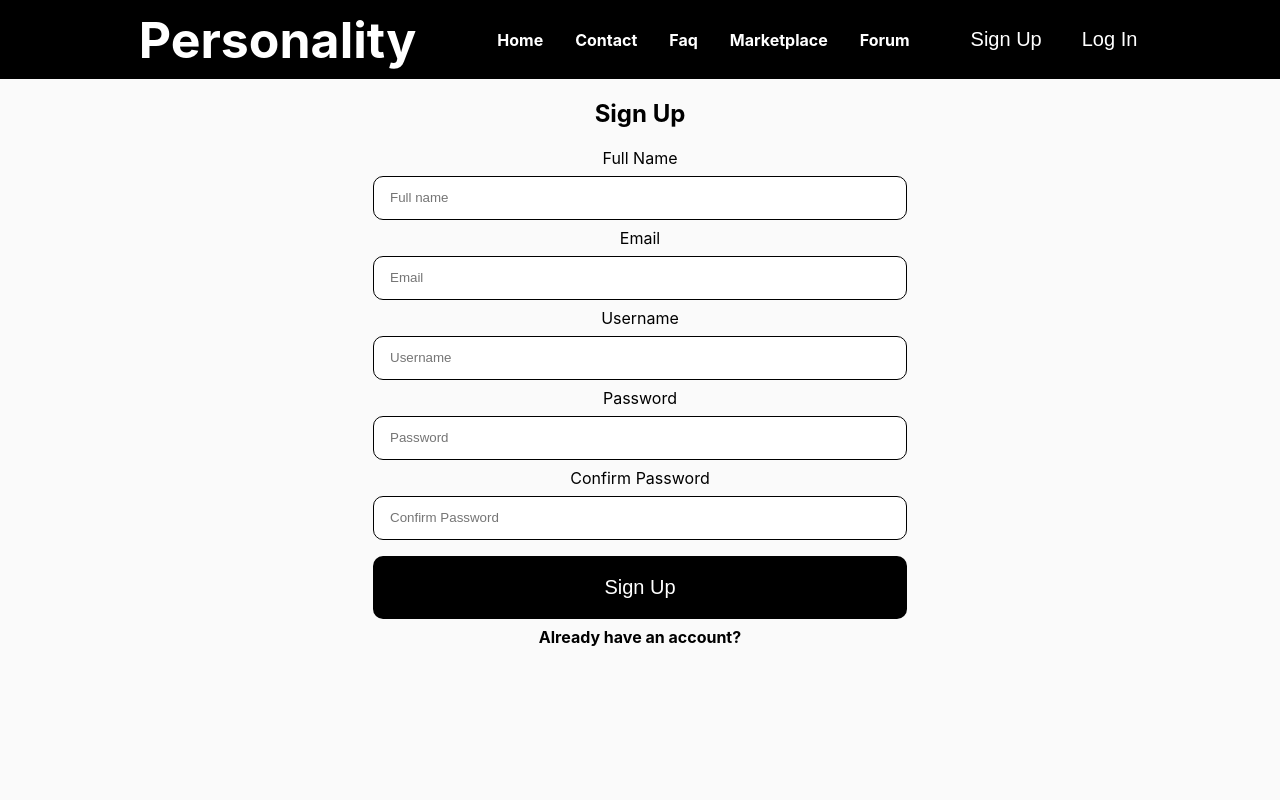
Test case: Cannot submit invalid email
Type "John Jefferson II" into the field with test id "signup-fullname" at (640, 198), box [373,176,907,220]
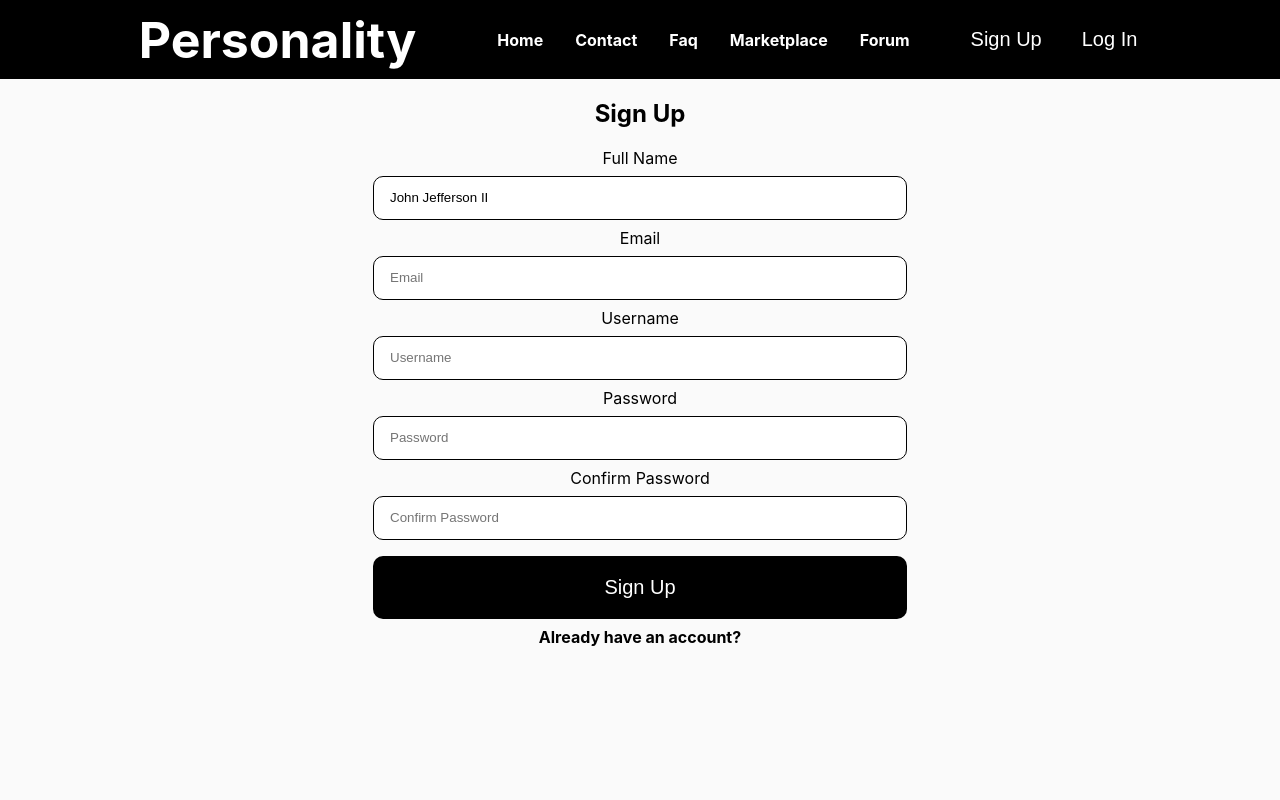
Type "j.jettas2@google.com" into the field with test id "signup-email" at (640, 278), box [373,256,907,300]
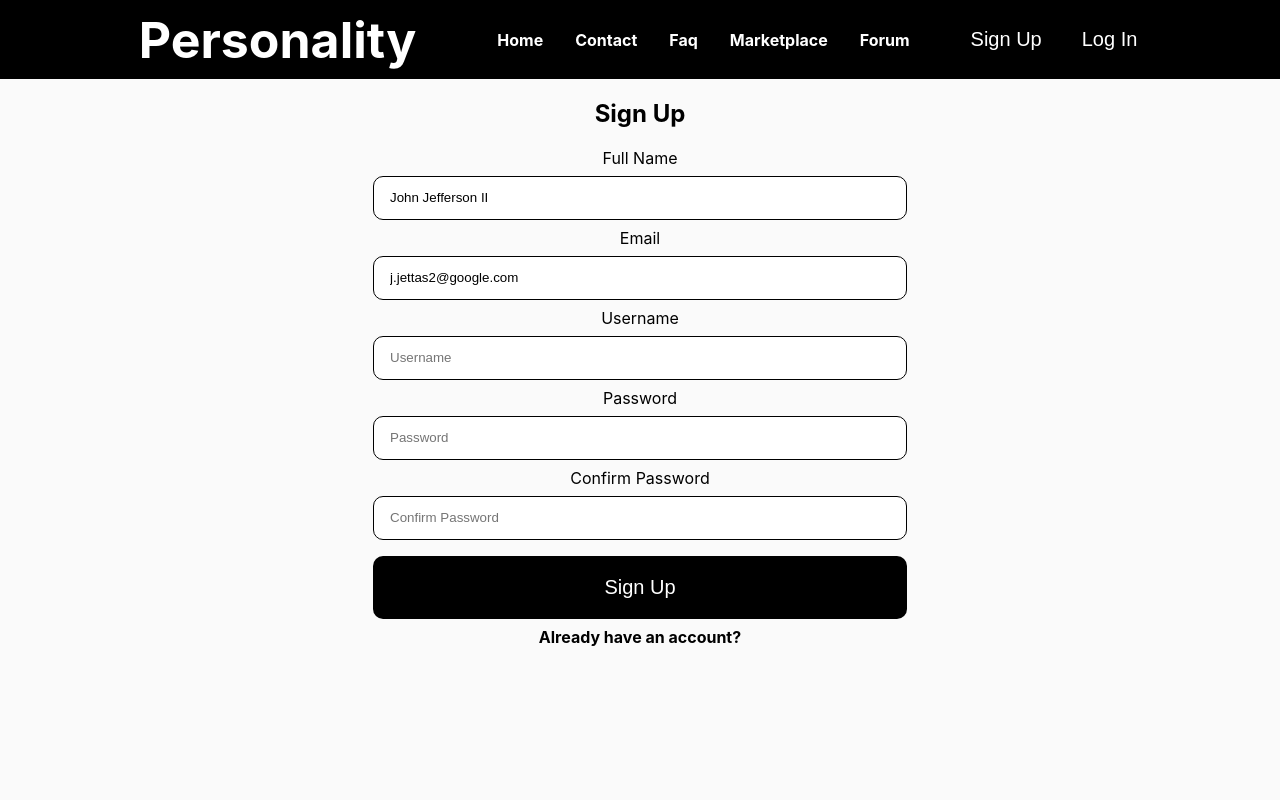
Type "Griddy" into the field with test id "signup-username" at (640, 358), box [373,336,907,380]
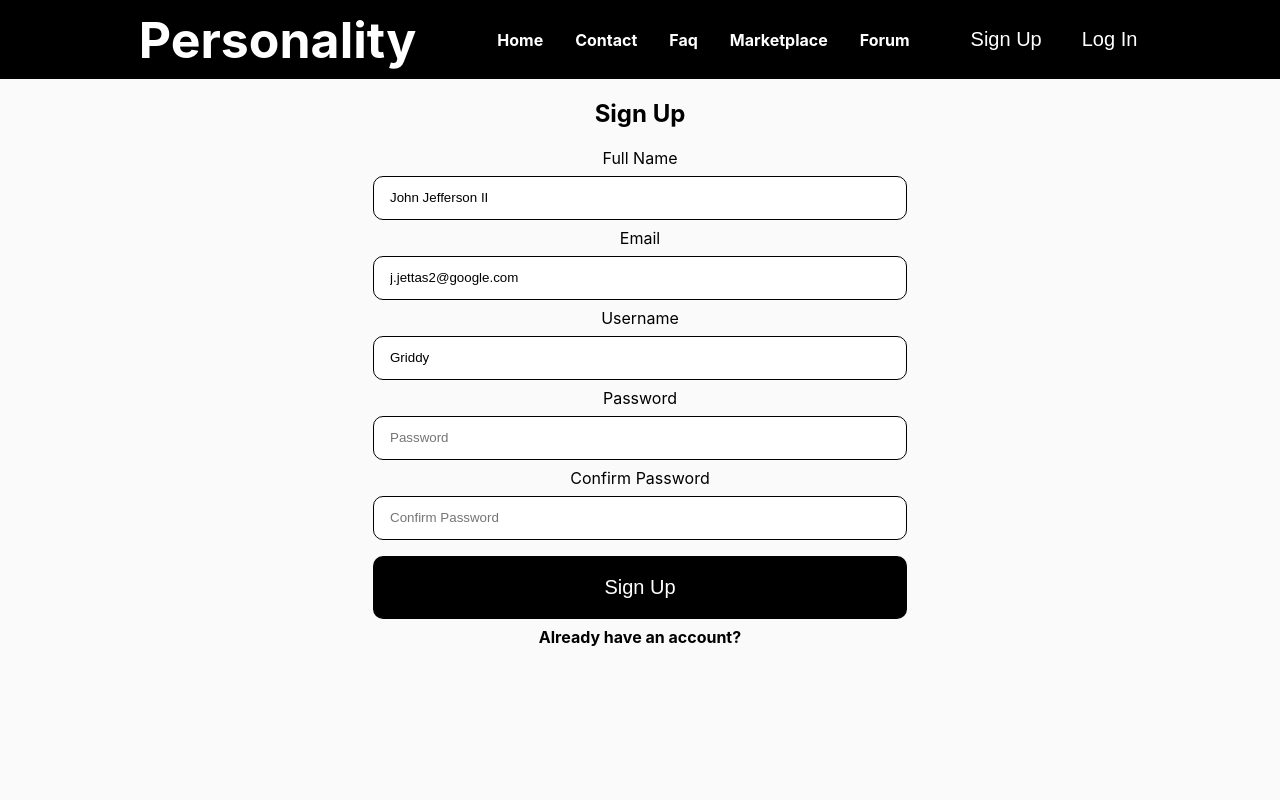
Type "Schwarzkopf23" into the password field with test id "signup-password" at (640, 438), box [373,416,907,460]
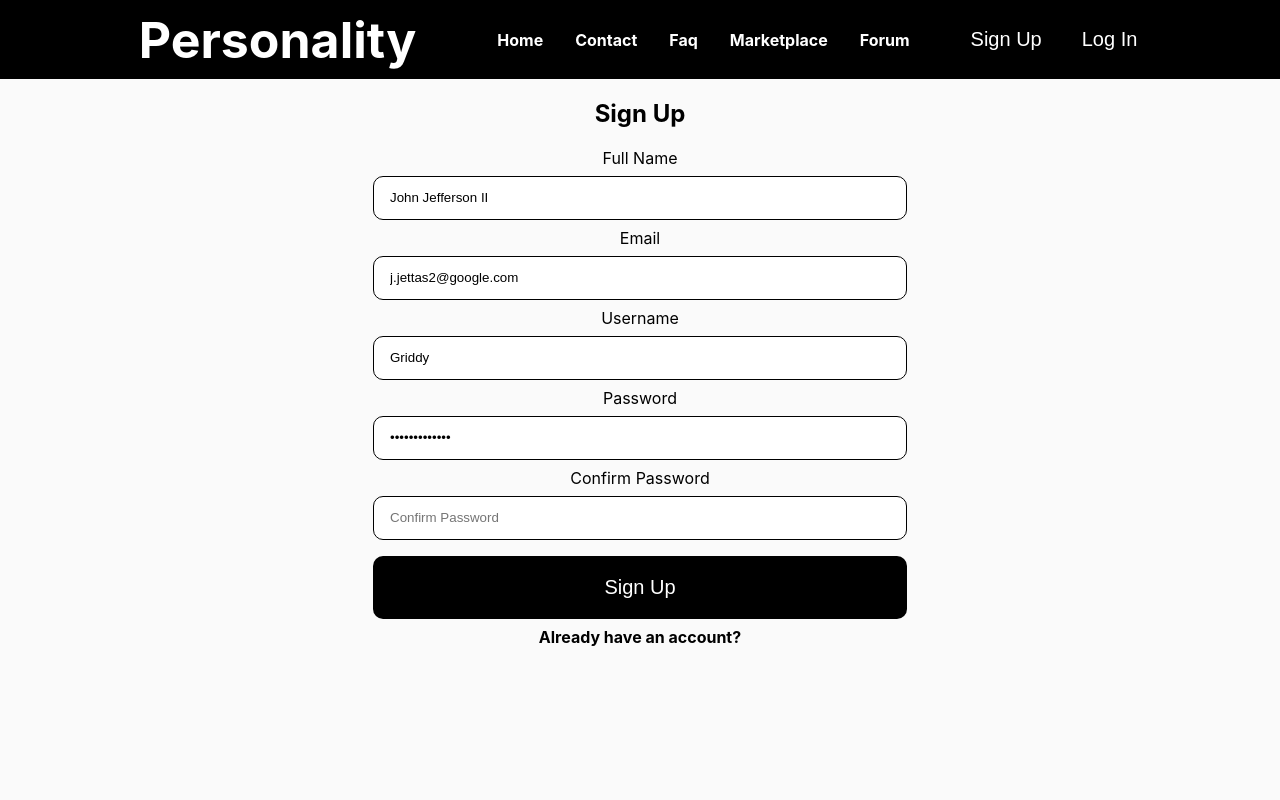
Type "Schwarzkopf23" into the password field with test id "signup-confirmpass" at (640, 518), box [373,496,907,540]
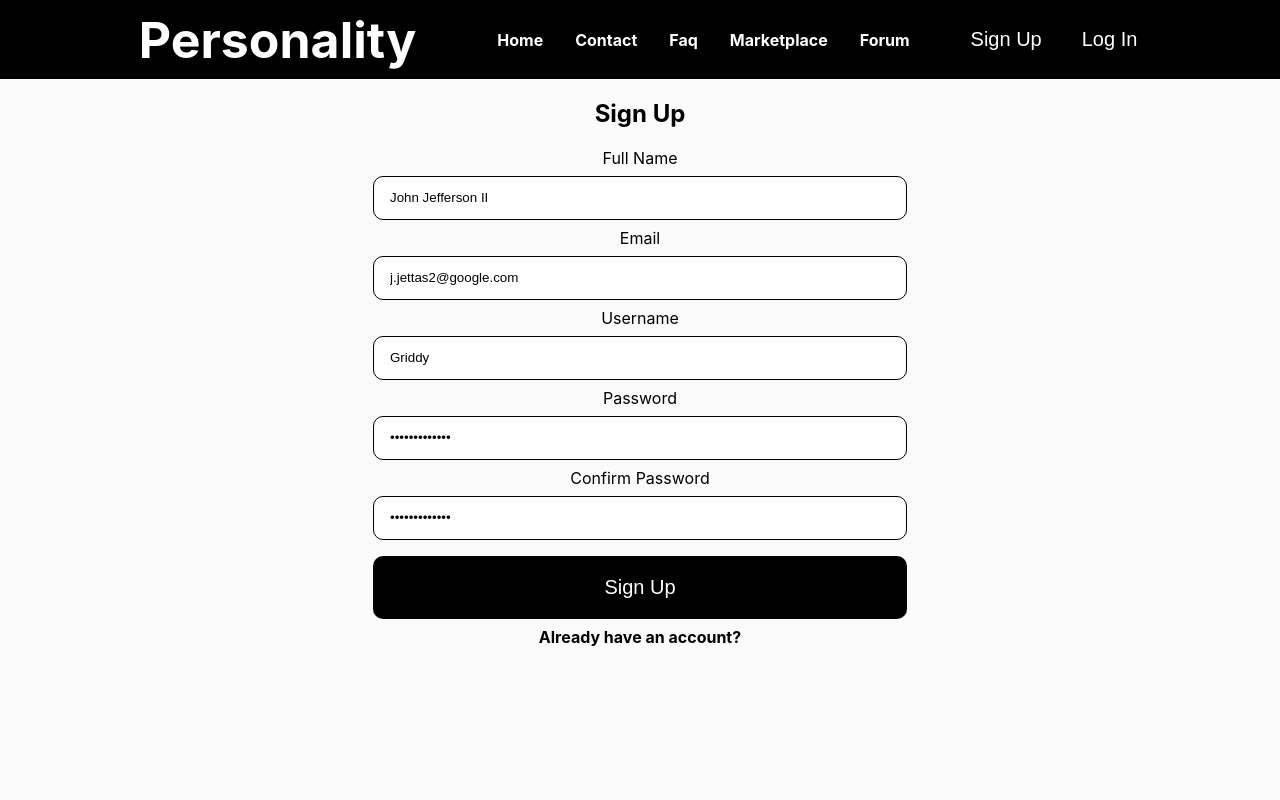
Click the button with test id "signup-submit" at (640, 587), box [373,556,907,619]
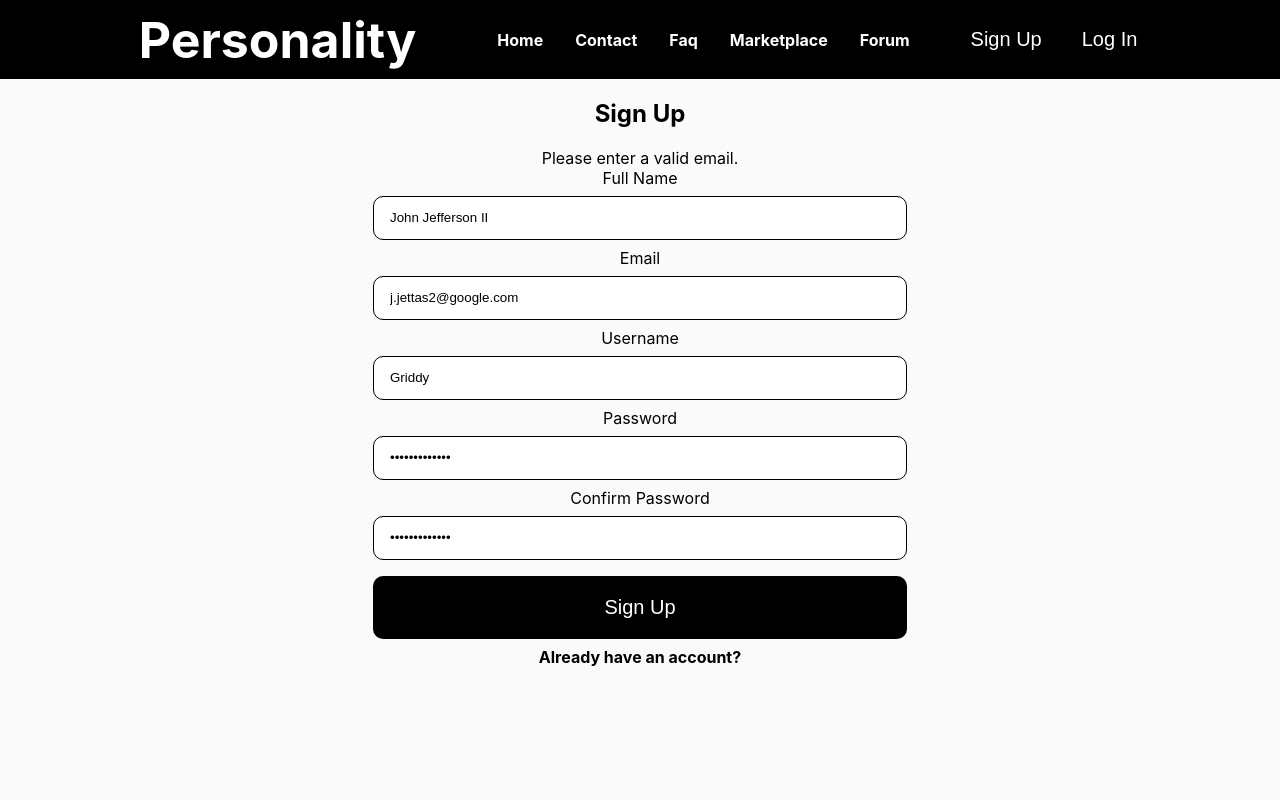
Check: the message reads "Please enter a valid email.", box [542,148,738,168]
